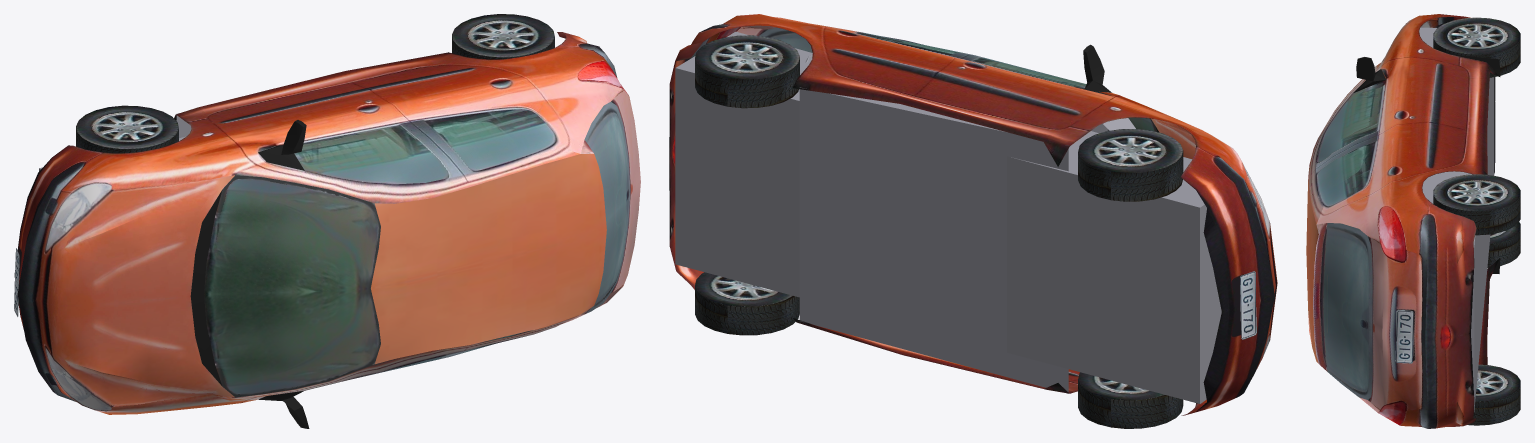
File: Car_08.obj
3 views of the same model, side by side, from view 1: azimuth 30°, elevation 25°; view 2: azimuth 150°, elevation 25°; view 3: azimuth 270°, elevation 25° (orthographic). The views are drawn at different scales.
Parts seen in each view (by area): view 1: _8body, _8tyres, _8tyresurf; view 2: _8fill, _8body, _8tyresurf, _8tyres, _8plates; view 3: _8body, _8tyres, _8tyresurf, _8fill, _8plates.
Part boxes in pixels (box(x1,y1,x2,y2)): _8body: box(14, 32, 640, 428); _8tyres: box(76, 14, 554, 148); _8tyresurf: box(76, 36, 554, 153); _8fill: box(675, 31, 1221, 403); _8body: box(669, 14, 1277, 415); _8tyresurf: box(695, 57, 1183, 428); _8tyres: box(695, 35, 1182, 400); _8plates: box(1240, 271, 1256, 339); _8body: box(1306, 14, 1500, 428); _8tyres: box(1433, 17, 1520, 401); _8tyresurf: box(1433, 39, 1520, 425); _8fill: box(1419, 27, 1494, 411); _8plates: box(1395, 309, 1413, 363).
Size of the model in its own units: 3.99 by 1.96 by 1.46.
